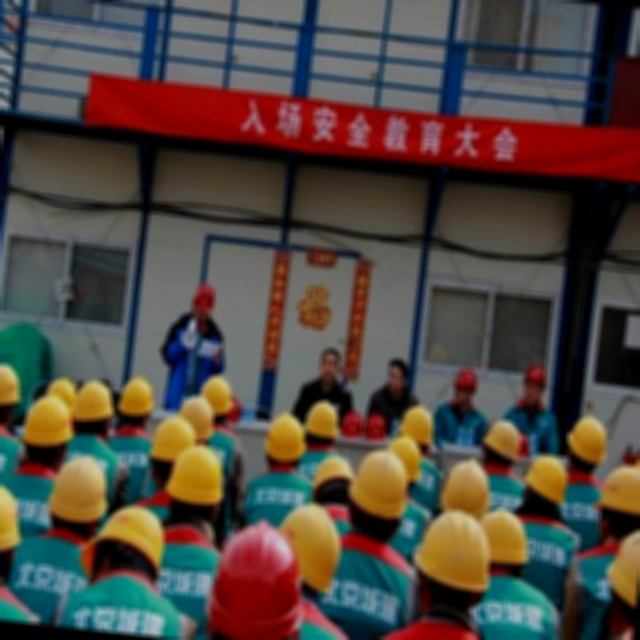Con_Casco: (450, 366, 479, 411)
Sin_Casco_Mascarrilla: (383, 356, 411, 400), (317, 346, 345, 387)
